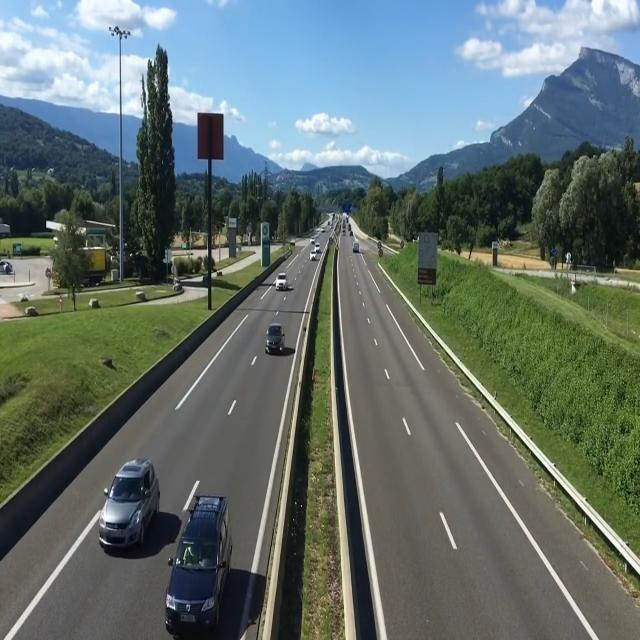Car: (166, 492, 232, 628), (90, 446, 158, 553), (258, 317, 295, 368), (268, 264, 292, 298)
